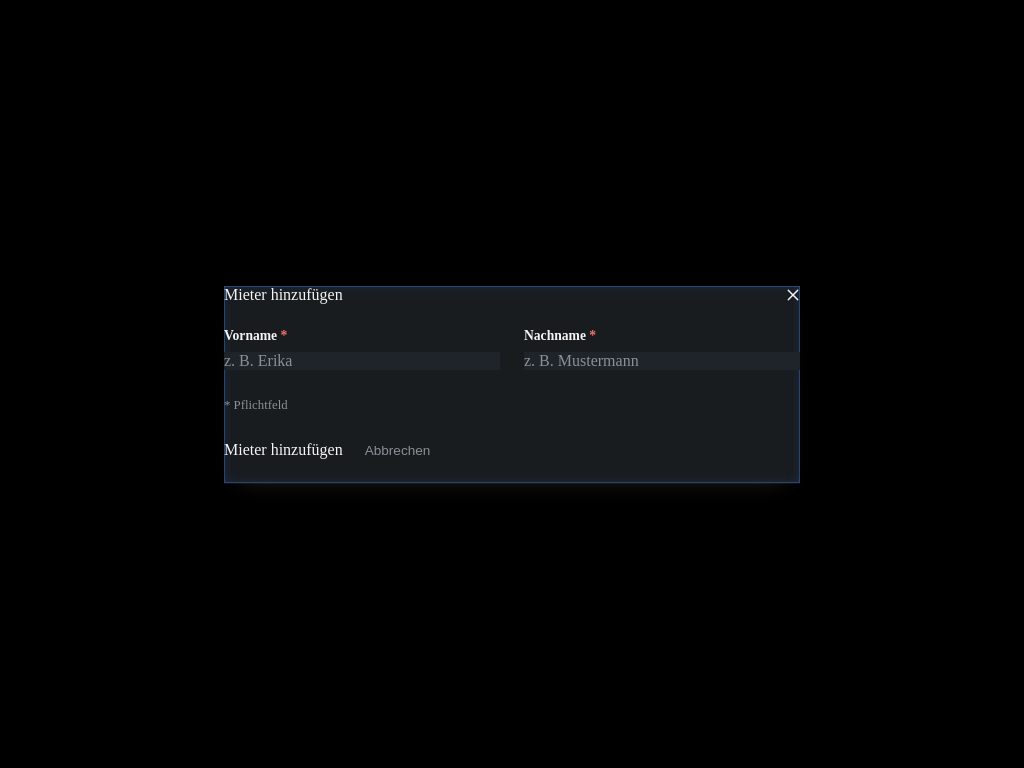
Test: TenantFormDialog › shows the localized message the backend gave for a failed save
Step 1. Type "Max" into the field with id "tenant-first-name" → [362, 360], box 224,352 -> 500,370
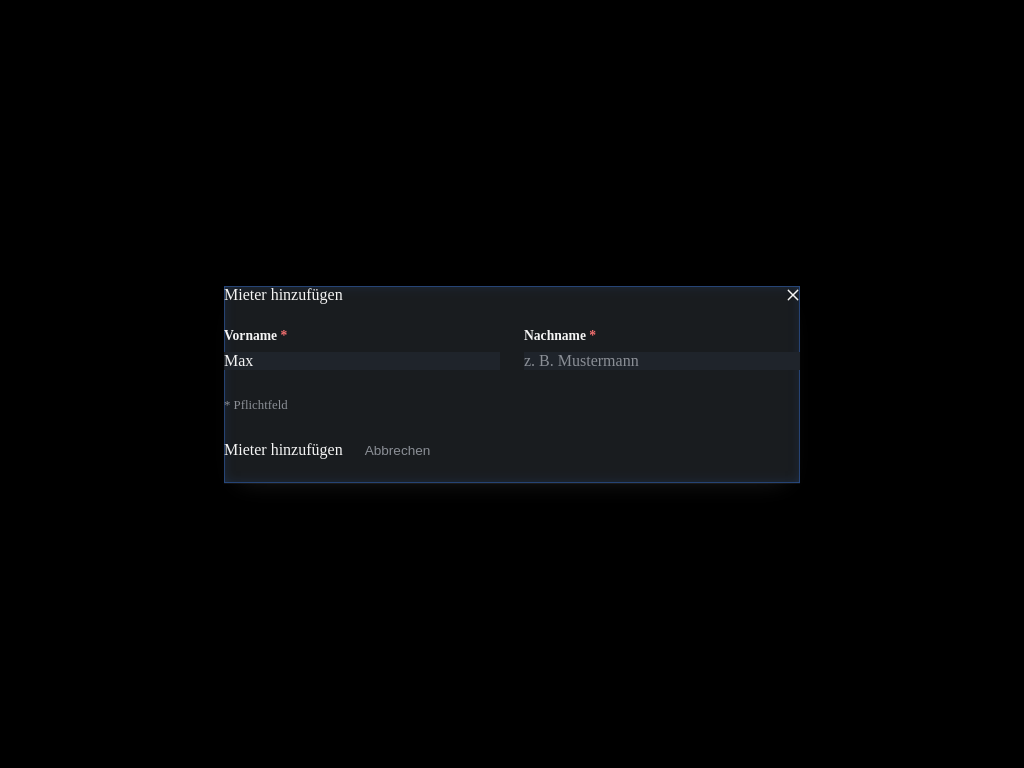
Step 2. Type "Mustermann" into the field with id "tenant-last-name" → [662, 360], box 524,352 -> 800,370
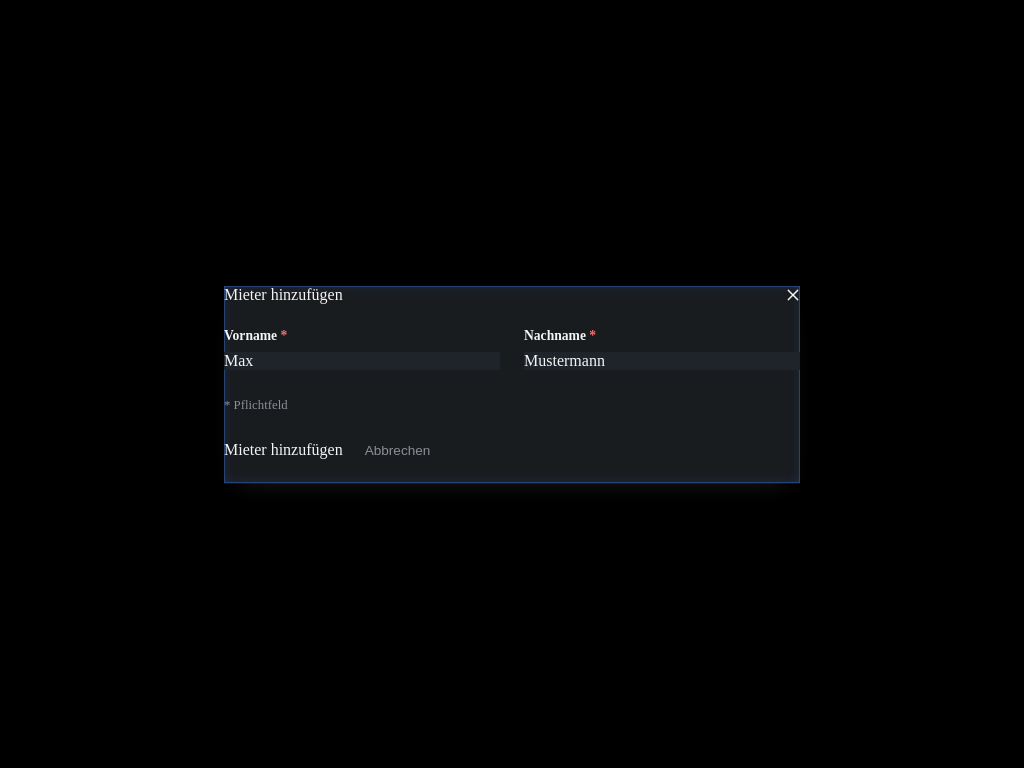
Step 3. Click the button "Mieter hinzufügen" → [283, 450], box 224,440 -> 343,458
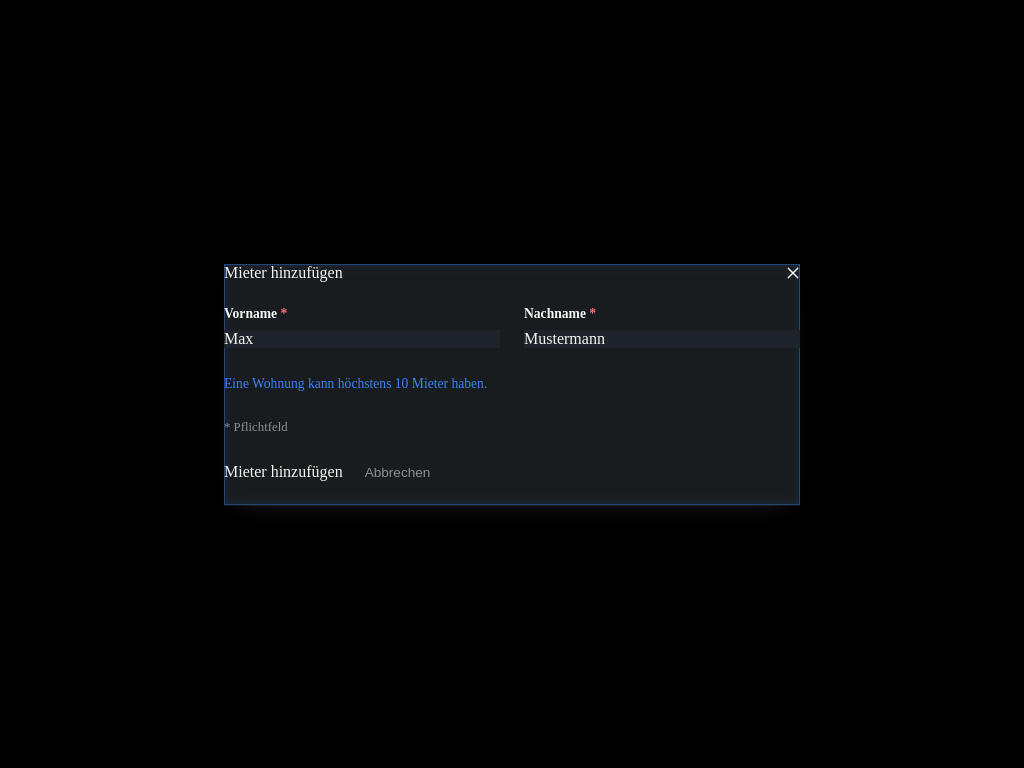
Now the text with class "tenant-form-dialog__error" reads "Eine Wohnung kann höchstens 10 Mieter haben.", box 224,376 -> 487,390
